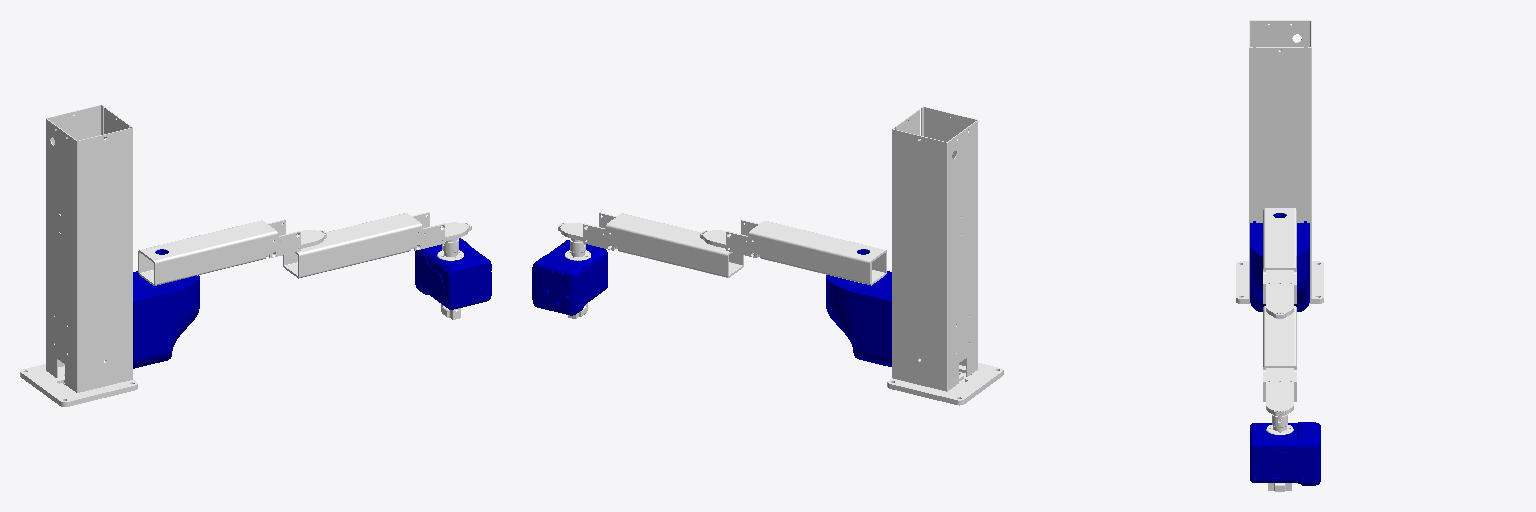
URDF robot description (mip_junior_300):
<?xml version="1.0" encoding="utf-8"?>
<robot name="mip_junior_300">
  <!-- Materials definition -->
  <material name="blue">
    <color rgba="0 0 0.8 1"/>
  </material>
  <material name="white">
    <color rgba="0.43 0.5 0.56 1"/>
  </material>
  <material name="grey">
    <color rgba="1 1 1 1"/>
  </material>
  <material name="black">
    <color rgba="0 0 0 1"/>
  </material>
  <material name="glass">
    <color rgba="0 0 0.8 0.5"/>
  </material>
  <material name="glass_green">
    <color rgba="0 0.8 0 0.5"/>
  </material>
  <!-- link Gazebo and ROS-->
  <gazebo>
    <plugin filename="libgazebo_ros_control.so" name="gazebo_ros_control">
      <robotNamespace>/arm</robotNamespace>
    </plugin>
  </gazebo>
  
 

  <link name="world"/>

  
  <link name="Tower_Base">
    <visual>
      <geometry>
        <mesh filename="package://mip_junior_300/meshes/Tower/Base.stl" scale="0.001 0.001 0.001"/>
        <!-- scaling factor needed because stl files are in mm and ROS is in m -->
      </geometry>
      <origin rpy="0 0 -1.57079632679" xyz="-0.16 0.08 0"/>
      <material name="grey"/>
    </visual>
    <collision>
      <geometry>
        <mesh filename="package://mip_junior_300/meshes/Tower/Base.stl" scale="0.001 0.001 0.001"/>
      </geometry>
      <origin rpy="0 0 -1.57079632679" xyz="-0.16 0.08 0"/>
    </collision>
    <inertial>
      <mass value="3"/>
      <inertia ixx="0.08285225" ixy="0.0" ixz="0.0" iyy="0.08285225" iyz="0.0" izz="0.0128"/>
    </inertial>
  </link>
  <gazebo reference="Tower_Base">
    <material> Gazebo/white</material>
  </gazebo>




  <link name="Tower_Outer_skin">
    <visual>
      <geometry>
        <mesh filename="package://mip_junior_300/meshes/Tower/Outer_skin.stl" scale="0.001 0.001 0.001"/>
      </geometry>
      <origin rpy="0 0 -1.57079632679" xyz="-0.0395 0.032 0"/>
      <material name="grey"/>
    </visual>
    <collision>
      <geometry>
        <mesh filename="package://mip_junior_300/meshes/Tower/Outer_skin.stl" scale="0.001 0.001 0.001"/>
      </geometry>
      <origin rpy="0 0 -1.57079632679" xyz="-0.0395 0.032 0"/>
    </collision>
  </link>
  <gazebo reference="Tower_Outer_skin">
    <material> Gazebo/white</material>
  </gazebo>

  

  <joint name="Tower_Base_" type="fixed">
    <parent link="world"/>
    <child link="Tower_Base"/>
    <origin xyz="-0.0915 0 0"/>
  </joint>
  <joint name="Tower_Outer_skin_" type="fixed">
    <parent link="Tower_Base"/>
    <child link="Tower_Outer_skin"/>
    <origin xyz="-0.0585 0 0.2562"/>
  </joint>

 
 

  <link name="Shoulder">
    <visual>
      <geometry>
        <mesh filename="package://mip_junior_300/meshes/Shoulder/Shoulder.stl" scale="0.001 0.001 0.001"/>
        <!-- scaling factor needed because stl files are in mm and ROS is in m -->
      </geometry>
      <origin rpy="0 0 -1.57079632679" xyz="-0.0997 0.03165 -0.0018"/>
      <material name="blue"/>
    </visual>
    <collision>
      <geometry>
        <mesh filename="package://mip_junior_300/meshes/Shoulder/Shoulder.stl" scale="0.001 0.001 0.001"/>
      </geometry>
      <origin rpy="0 0 -1.57079632679" xyz="-0.0997 0.03165 -0.0018"/>
    </collision>
    <inertial>
      <mass value="3"/>
      <inertia ixx="0.08285225" ixy="0.0" ixz="0.0" iyy="0.08285225" iyz="0.0" izz="0.0128"/>
    </inertial>
  </link>
  <gazebo reference="Shoulder">
    <material> Gazebo/Blue</material>
  </gazebo>




  <joint name="prismatic1" type="prismatic">
    <parent link="Tower_Base"/>
    <child link="Shoulder"/>
    <axis xyz="0 0 1"/>
    <limit effort="10000.0" lower="0.0" upper="0.255" velocity="10000"/>
    <origin xyz="0.0018 0 0.01705"/>
  </joint>
  <!-- Transmission specification for Gazebo relates a joint to an actuator -->
  <transmission name="Tower_Base_translation">
    <type>transmission_interface/SimpleTransmission</type>
    <actuator name="Tower_Base_motor">
      <mechanicalReduction>1</mechanicalReduction>
    </actuator>
    <joint name="prismatic1">
      <hardwareInterface>hardware_interface/EffortJointInterface</hardwareInterface>
    </joint>
  </transmission>
  <gazebo reference="Tower_Base_to_Shoulder">
    <implicitSpringDamper>1</implicitSpringDamper>
  </gazebo>



  
  <link name="Arm_Arm_Metal">
    <visual>
      <geometry>
        <mesh filename="package://mip_junior_300/meshes/Arm/Arm_Metal.stl" scale="0.001 0.001 0.001"/>
        <!-- scaling factor needed because stl files are in mm and ROS is in m -->
      </geometry>
      <origin rpy="0 0 -1.57079632679" xyz="-0.1895 0.031391 -0.1541"/>
      <material name="grey"/>
    </visual>
    <collision>
      <geometry>
        <mesh filename="package://mip_junior_300/meshes/Arm/Arm_Metal.stl" scale="0.001 0.001 0.001"/>
      </geometry>
      <origin rpy="0 0 -1.57079632679" xyz="-0.1895 0.031391 -0.1541"/>
    </collision>
    <inertial>
      <mass value="3"/>
      <inertia ixx="0.08285225" ixy="0.0" ixz="0.0" iyy="0.08285225" iyz="0.0" izz="0.0128"/>
    </inertial>
  </link>
  <gazebo reference="Arm_Arm_Metal">
    <material> Gazebo/Grey</material>
  </gazebo>
  



  <joint name="revolute1" type="revolute">
    <parent link="Shoulder"/>
    <child link="Arm_Arm_Metal"/>
    <origin xyz="0.0905 0 0.1523"/>
    <axis xyz="0 0 1"/>
    <limit effort="1000.0" lower="-2.05948851735" upper="2.05948851735" velocity="25.1327412287"/>
  </joint>
  <!-- Transmission specification for Gazebo relates a joint to an actuator -->
  <transmission name="Shoulder_rotation">
    <type>transmission_interface/SimpleTransmission</type>
    <actuator name="Shoulder_motor">
      <mechanicalReduction>1</mechanicalReduction>
    </actuator>
    <joint name="revolute1">
      <hardwareInterface>hardware_interface/EffortJointInterface</hardwareInterface>
    </joint>
  </transmission>
  <gazebo reference="revolute1">
    <implicitSpringDamper>1</implicitSpringDamper>
  </gazebo>
 


  
  <link name="Forearm_Forearm_Metal">
    <visual>
      <geometry>
        <mesh filename="package://mip_junior_300/meshes/Forearm/Forearm_Metal.stl" scale="0.001 0.001 0.001"/>
        <!-- scaling factor needed because stl files are in mm and ROS is in m -->
      </geometry>
      <origin rpy="0 0 -1.57079632679" xyz="-0.49 0.03154 -0.0993"/>
      <material name="grey"/>
    </visual>
    <collision>
      <geometry>
        <mesh filename="package://mip_junior_300/meshes/Forearm/Forearm_Metal.stl" scale="0.001 0.001 0.001"/>
      </geometry>
      <origin rpy="0 0 -1.57079632679" xyz="-0.49 0.03154 -0.0993"/>
    </collision>
    <inertial>
      <mass value="3"/>
      <inertia ixx="0.08285225" ixy="0.0" ixz="0.0" iyy="0.08285225" iyz="0.0" izz="0.0128"/>
    </inertial>
  </link>
  <gazebo reference="Forearm_Forearm_Metal">
    <material> Gazebo/Grey</material>
  </gazebo>
 
  

  <joint name="revolute2" type="revolute">
    <parent link="Arm_Arm_Metal"/>
    <child link="Forearm_Forearm_Metal"/>
    <origin xyz="0.300 0 -0.055"/>
    <axis xyz="0 0 1"/>
    <limit effort="1000.0" lower="-2.05948851735" upper="2.05948851735" velocity="25.1327412287"/>
  </joint>
  <!-- Transmission specification for Gazebo relates a joint to an actuator -->
  <transmission name="Arm_Arm_Metal_rotation">
    <type>transmission_interface/SimpleTransmission</type>
    <actuator name="Arm_Arm_Metal_motor">
      <mechanicalReduction>1</mechanicalReduction>
    </actuator>
    <joint name="revolute2">
      <hardwareInterface>hardware_interface/EffortJointInterface</hardwareInterface>
    </joint>
  </transmission>
  <gazebo reference="revolute2">
    <implicitSpringDamper>1</implicitSpringDamper>
  </gazebo>

 
  
  <link name="End_Effector_MIP_Gripper_Interface">
    <visual>
      <geometry>
        <mesh filename="package://mip_junior_300/End_Effector_MIP/End_Effector_MIP/Gripper_Interface.stl" scale="0.001 0.001 0.001"/>
        <!-- scaling factor needed because stl files are in mm and ROS is in m -->
      </geometry>
      <origin rpy="0 0 -1.57079632679" xyz="0 0 0.0115"/>
      <material name="grey"/>
    </visual>
    <collision>
      <geometry>
        <mesh filename="package://mip_junior_300/End_Effector_MIP/End_Effector_MIP/Gripper_Interface.stl" scale="0.001 0.001 0.001"/>
      </geometry>
      <origin rpy="0 0 -1.57079632679" xyz="0 0 0.0115"/>
    </collision>
    <inertial>
      <mass value="3"/>
      <inertia ixx="0.08285225" ixy="0.0" ixz="0.0" iyy="0.08285225" iyz="0.0" izz="0.0128"/>
    </inertial>
  </link>
  <gazebo reference="End_Effector_MIP_Gripper_Interface">
    <material> Gazebo/Grey</material>
  </gazebo>



  <link name="End_Effector_MIP_Hull_Left">
    <visual>
      <geometry>
        <mesh filename="package://mip_junior_300/End_Effector_MIP/End_Effector_MIP/Hull_Left.stl" scale="0.001 0.001 0.001"/>
        <!-- scaling factor needed because stl files are in mm and ROS is in m -->
      </geometry>
      <origin rpy="0 0 0" xyz="0.0118 -0.02645 -0.038"/>
      <material name="blue"/>
    </visual>
    <collision>
      <geometry>
        <mesh filename="package://mip_junior_300/End_Effector_MIP/End_Effector_MIP/Hull_Left.stl" scale="0.001 0.001 0.001"/>
      </geometry>
      <origin rpy="0 0 0" xyz="0.0118 -0.02645 -0.038"/>
    </collision>
  </link>
  <gazebo reference="End_Effector_MIP_Hull_Left">
    <material> Gazebo/Blue</material>
  </gazebo>



  <link name="End_Effector_MIP_Hull_Right">
    <visual>
      <geometry>
        <mesh filename="package://mip_junior_300/End_Effector_MIP/End_Effector_MIP/Hull_Right.stl" scale="0.001 0.001 0.001"/>
        <!-- scaling factor needed because stl files are in mm and ROS is in m -->
      </geometry>
      <origin rpy="0 0 0" xyz="-0.0373 -0.0249 -0.0574"/>
      <material name="blue"/>
    </visual>
    <collision>
      <geometry>
        <mesh filename="package://mip_junior_300/End_Effector_MIP/End_Effector_MIP/Hull_Right.stl" scale="0.001 0.001 0.001"/>
      </geometry>
      <origin rpy="0 0 0" xyz="-0.0373 -0.0249 -0.0574"/>
    </collision>
  </link>
  <gazebo reference="End_Effector_MIP_Hull_Right">
    <material> Gazebo/Blue</material>
  </gazebo>



  <link name="End_Effector_MIP_Finger_Right">
    <visual>
      <geometry>
        <mesh filename="package://mip_junior_300/End_Effector_MIP/End_Effector_MIP/Finger_Right.stl" scale="0.001 0.001 0.001"/>
        <!-- scaling factor needed because stl files are in mm and ROS is in m -->
      </geometry>
      <origin rpy="0 0 3.14159265359" xyz="0.0012 -0.00375 -0.0097"/>
      <material name="grey"/>
    </visual>
    <collision>
      <geometry>
        <mesh filename="package://mip_junior_300/End_Effector_MIP/End_Effector_MIP/Finger_Right.stl" scale="0.001 0.001 0.001"/>
      </geometry>
      <origin rpy="0 0 3.14159265359" xyz="0.0012 -0.00375 -0.0097"/>
    </collision>
  </link>
  <gazebo reference="End_Effector_MIP_Finger_Right">
    <material> Gazebo/Gray</material>
  </gazebo>



  <link name="End_Effector_MIP_Finger_Left">
    <visual>
      <geometry>
        <mesh filename="package://mip_junior_300/End_Effector_MIP/End_Effector_MIP/Finger_Left.stl" scale="0.001 0.001 0.001"/>
        <!-- scaling factor needed because stl files are in mm and ROS is in m -->
      </geometry>
      <origin rpy="0 0 0" xyz="0.0012 0.00375 -0.0097"/>
      <material name="grey"/>
    </visual>
    <collision>
      <geometry>
        <mesh filename="package://mip_junior_300/End_Effector_MIP/End_Effector_MIP/Finger_Left.stl" scale="0.001 0.001 0.001"/>
      </geometry>
      <origin rpy="0 0 0" xyz="0.0012 0.00375 -0.0097"/>
    </collision>
  </link>
  <gazebo reference="End_Effector_MIP_Finger_Left">
    <material> Gazebo/Gray</material>
  </gazebo>



  <link name="End_Effector_MIP_Tooth_Right">
    <visual>
      <geometry>
        <mesh filename="package://mip_junior_300/End_Effector_MIP/End_Effector_MIP/Tooth.stl" scale="0.001 0.001 0.001"/>
        <!-- scaling factor needed because stl files are in mm and ROS is in m -->
      </geometry>
      <origin rpy="1.57079632679 0 1.57079632679" xyz="0 0.0078 -0.016"/>
      <material name="grey"/>
    </visual>
    <collision>
      <geometry>
        <mesh filename="package://mip_junior_300/End_Effector_MIP/End_Effector_MIP/Tooth.stl" scale="0.001 0.001 0.001"/>
      </geometry>
      <origin rpy="1.57079632679 0 1.57079632679" xyz="0 0.0078 -0.016"/>
    </collision>
    <inertial>
      <mass value="3"/>
      <inertia ixx="0.08285225" ixy="0.0" ixz="0.0" iyy="0.08285225" iyz="0.0" izz="0.0128"/>
    </inertial>
  </link>
  <gazebo reference="End_Effector_MIP_Tooth_Right">
    <material> Gazebo/Gray</material>
  </gazebo>




  <link name="End_Effector_MIP_Tooth_Left">
    <visual>
      <geometry>
        <mesh filename="package://mip_junior_300/End_Effector_MIP/End_Effector_MIP/Tooth.stl" scale="0.001 0.001 0.001"/>
        <!-- scaling factor needed because stl files are in mm and ROS is in m -->
      </geometry>
      <origin rpy="1.57079632679 0 -1.57079632679" xyz="0 -0.0078 -0.016"/>
      <material name="grey"/>
    </visual>
    <collision>
      <geometry>
        <mesh filename="package://mip_junior_300/End_Effector_MIP/End_Effector_MIP/Tooth.stl" scale="0.001 0.001 0.001"/>
      </geometry>
      <origin rpy="1.57079632679 0 -1.57079632679" xyz="0 -0.0078 -0.016"/>
    </collision>
    <inertial>
      <mass value="3"/>
      <inertia ixx="0.08285225" ixy="0.0" ixz="0.0" iyy="0.08285225" iyz="0.0" izz="0.0128"/>
    </inertial>
  </link>
  <gazebo reference="End_Effector_MIP_Tooth_Left">
    <material> Gazebo/Gray</material>
  </gazebo>


  <joint name="box_l" type="fixed">
    <parent link="End_Effector_MIP_Gripper_Interface"/>
    <child link="End_Effector_MIP_Hull_Left"/>
    <origin xyz="0 0 0"/>
  </joint>
  <joint name="box_r" type="fixed">
    <parent link="End_Effector_MIP_Hull_Left"/>
    <child link="End_Effector_MIP_Hull_Right"/>
    <origin xyz="0.0578 0.074 0.0056"/>
  </joint>
  


  <joint name="revolute3" type="revolute">
    <parent link="Forearm_Forearm_Metal"/>
    <child link="End_Effector_MIP_Gripper_Interface"/>
    <origin xyz="0.3 0 -0.0451"/>
    <axis xyz="0 0 1"/>
    <limit effort="1000.0" lower="-2.05948851735" upper="2.05948851735" velocity="25.1327412287"/>
  </joint>
  <!-- Transmission specification for Gazebo relates a joint to an actuator -->
  <transmission name="Forearm_Forearm_Metal_rotation">
    <type>transmission_interface/SimpleTransmission</type>
    <actuator name="Forearm_Forearm_Metal_motor">
      <mechanicalReduction>1</mechanicalReduction>
    </actuator>
    <joint name="revolute3">
      <hardwareInterface>hardware_interface/EffortJointInterface</hardwareInterface>
    </joint>
  </transmission>
  <gazebo reference="revolute3">
    <implicitSpringDamper>1</implicitSpringDamper>
  </gazebo>
 


  <joint name="End_Effector_MIP_Finger_Right_" type="fixed">
    <parent link="End_Effector_MIP_Tooth_Right"/>
    <child link="End_Effector_MIP_Finger_Right"/>
    <origin xyz="0 0.0115 0.017"/>
  </joint>
  <joint name="End_Effector_MIP_Finger_Left_" type="fixed">
    <parent link="End_Effector_MIP_Tooth_Left"/>
    <child link="End_Effector_MIP_Finger_Left"/>
    <origin xyz="0 -0.0115 0.017"/>
  </joint>
 


  <joint name="EE_right" type="prismatic">
    <parent link="End_Effector_MIP_Gripper_Interface"/>
    <child link="End_Effector_MIP_Tooth_Right"/>
    <origin xyz="0 -0.022 -0.08"/>
    <axis xyz="0 -0.1 0"/>
    <limit effort="1000.0" lower="0.0" upper="0.012" velocity="10000"/>
  </joint>
  <!-- Transmission specification for Gazebo relates a joint to an actuator -->
  <transmission name="End_Effector_MIP_Gripper_Interface_translation">
    <type>transmission_interface/SimpleTransmission</type>
    <actuator name="End_Effector_MIP_Gripper_Interface_motor">
      <mechanicalReduction>1</mechanicalReduction>
    </actuator>
    <joint name="EE_right">
      <hardwareInterface>hardware_interface/EffortJointInterface</hardwareInterface>
    </joint>
  </transmission>
  <gazebo reference="EE_right">
    <implicitSpringDamper>1</implicitSpringDamper>
  </gazebo>
  


  <joint name="EE_left" type="prismatic">
    <parent link="End_Effector_MIP_Gripper_Interface"/>
    <child link="End_Effector_MIP_Tooth_Left"/>
    <origin xyz="0 0.022 -0.08"/>
    <axis xyz="0 0.1 0"/>
    <limit effort="1000.0" lower="0.0" upper="0.012" velocity="10000"/>
  </joint>
  <!-- Transmission specification for Gazebo relates a joint to an actuator -->
  <transmission name="End_Effector_MIP_Gripper_Interface_translation">
    <type>transmission_interface/SimpleTransmission</type>
    <actuator name="End_Effector_MIP_Gripper_Interface_motor">
      <mechanicalReduction>1</mechanicalReduction>
    </actuator>
    <joint name="EE_left">
      <hardwareInterface>hardware_interface/EffortJointInterface</hardwareInterface>
    </joint>
  </transmission>
  <gazebo reference="EE_left">
    <implicitSpringDamper>1</implicitSpringDamper>
  </gazebo>
  


  <gazebo>
    <plugin filename="libgazebo_grasp_fix.so" name="gazebo_grasp_fix">
      <arm>
        <arm_name> mip_junior_300_arm </arm_name>
        <palm_link> End_Effector_MIP_Gripper_Interface  </palm_link>
        <gripper_link> End_Effector_MIP_Tooth_Left </gripper_link>
        <gripper_link> End_Effector_MIP_Tooth_Right </gripper_link>
      </arm>
      <forces_angle_tolerance>100</forces_angle_tolerance>
      <!-- 100 in example -->
      <update_rate>100</update_rate>
      <!--4 in example-->
      <grip_count_threshold>2</grip_count_threshold>
      <!--4 in example -->
      <max_grip_count>4</max_grip_count>
      <!--8 in example-->
      <release_tolerance>0.007</release_tolerance>
      <!--0.005 in example -->
      <disable_collisions_on_attach>false</disable_collisions_on_attach>
      <!-- false in example -->
      <contact_topic>__default_topic__</contact_topic>
    </plugin>
  </gazebo>
 
</robot>

--- What the picture shows (computed from the rendered views, not written in the file) ---
The picture shows the robot from 3 angles, left to right: view 1: azimuth 30°, elevation 25°; view 2: azimuth 150°, elevation 25°; view 3: azimuth 270°, elevation 25°; orthographic projection.
Robot: mip_junior_300 — 13 links, 12 joints (3 revolute, 3 prismatic, 6 fixed); root link world; default pose: all joints at 0.
Visible links, largest first — view 1: Tower_Outer_skin, Arm_Arm_Metal, Forearm_Forearm_Metal, Shoulder, End_Effector_MIP_Hull_Left, Tower_Base, End_Effector_MIP_Hull_Right; view 2: Tower_Outer_skin, Arm_Arm_Metal, Forearm_Forearm_Metal, Shoulder, End_Effector_MIP_Hull_Right, Tower_Base, End_Effector_MIP_Hull_Left; view 3: Tower_Outer_skin, Arm_Arm_Metal, Forearm_Forearm_Metal, End_Effector_MIP_Hull_Right, Shoulder, End_Effector_MIP_Hull_Left, Tower_Base.
Boxes of the visible links, <box> form: Tower_Outer_skin: <box>46,105,132,392</box>; Arm_Arm_Metal: <box>138,219,326,285</box>; Forearm_Forearm_Metal: <box>283,212,471,278</box>; Shoulder: <box>133,249,199,368</box>; End_Effector_MIP_Hull_Left: <box>428,244,491,309</box>; Tower_Base: <box>20,360,137,406</box>; End_Effector_MIP_Hull_Right: <box>415,238,468,298</box>; Tower_Outer_skin: <box>892,106,977,391</box>; Arm_Arm_Metal: <box>700,220,886,285</box>; Forearm_Forearm_Metal: <box>558,212,743,277</box>; Shoulder: <box>826,249,891,366</box>; End_Effector_MIP_Hull_Right: <box>532,255,604,315</box>; Tower_Base: <box>887,359,1003,405</box>; End_Effector_MIP_Hull_Left: <box>547,240,607,301</box>; Tower_Outer_skin: <box>1249,20,1311,298</box>; Arm_Arm_Metal: <box>1263,208,1296,318</box>; Forearm_Forearm_Metal: <box>1263,306,1296,422</box>; End_Effector_MIP_Hull_Right: <box>1258,422,1320,485</box>; Shoulder: <box>1250,213,1309,311</box>; End_Effector_MIP_Hull_Left: <box>1250,423,1293,482</box>; Tower_Base: <box>1236,261,1323,303</box>.
Size in the robot's own frame: 0.9102 by 0.16 by 0.5558 metres.
Meshes: 11 distinct files referenced, 12 mesh visuals loaded (11 binary STL).